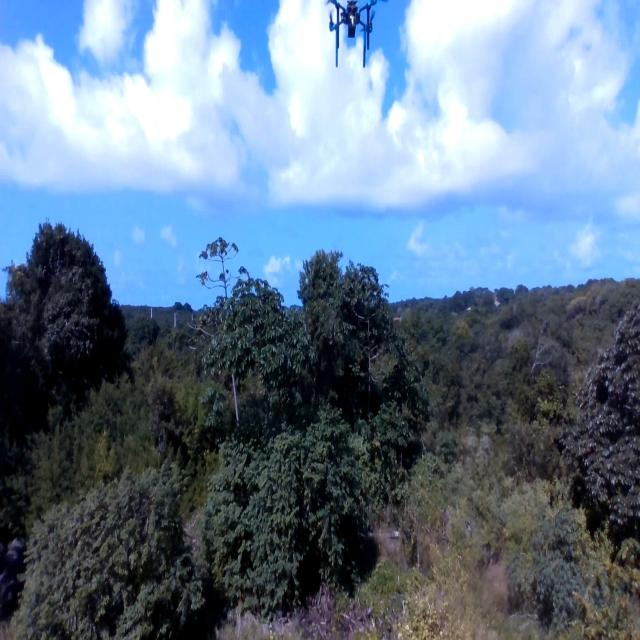-uav-: (322, 0, 382, 76)
